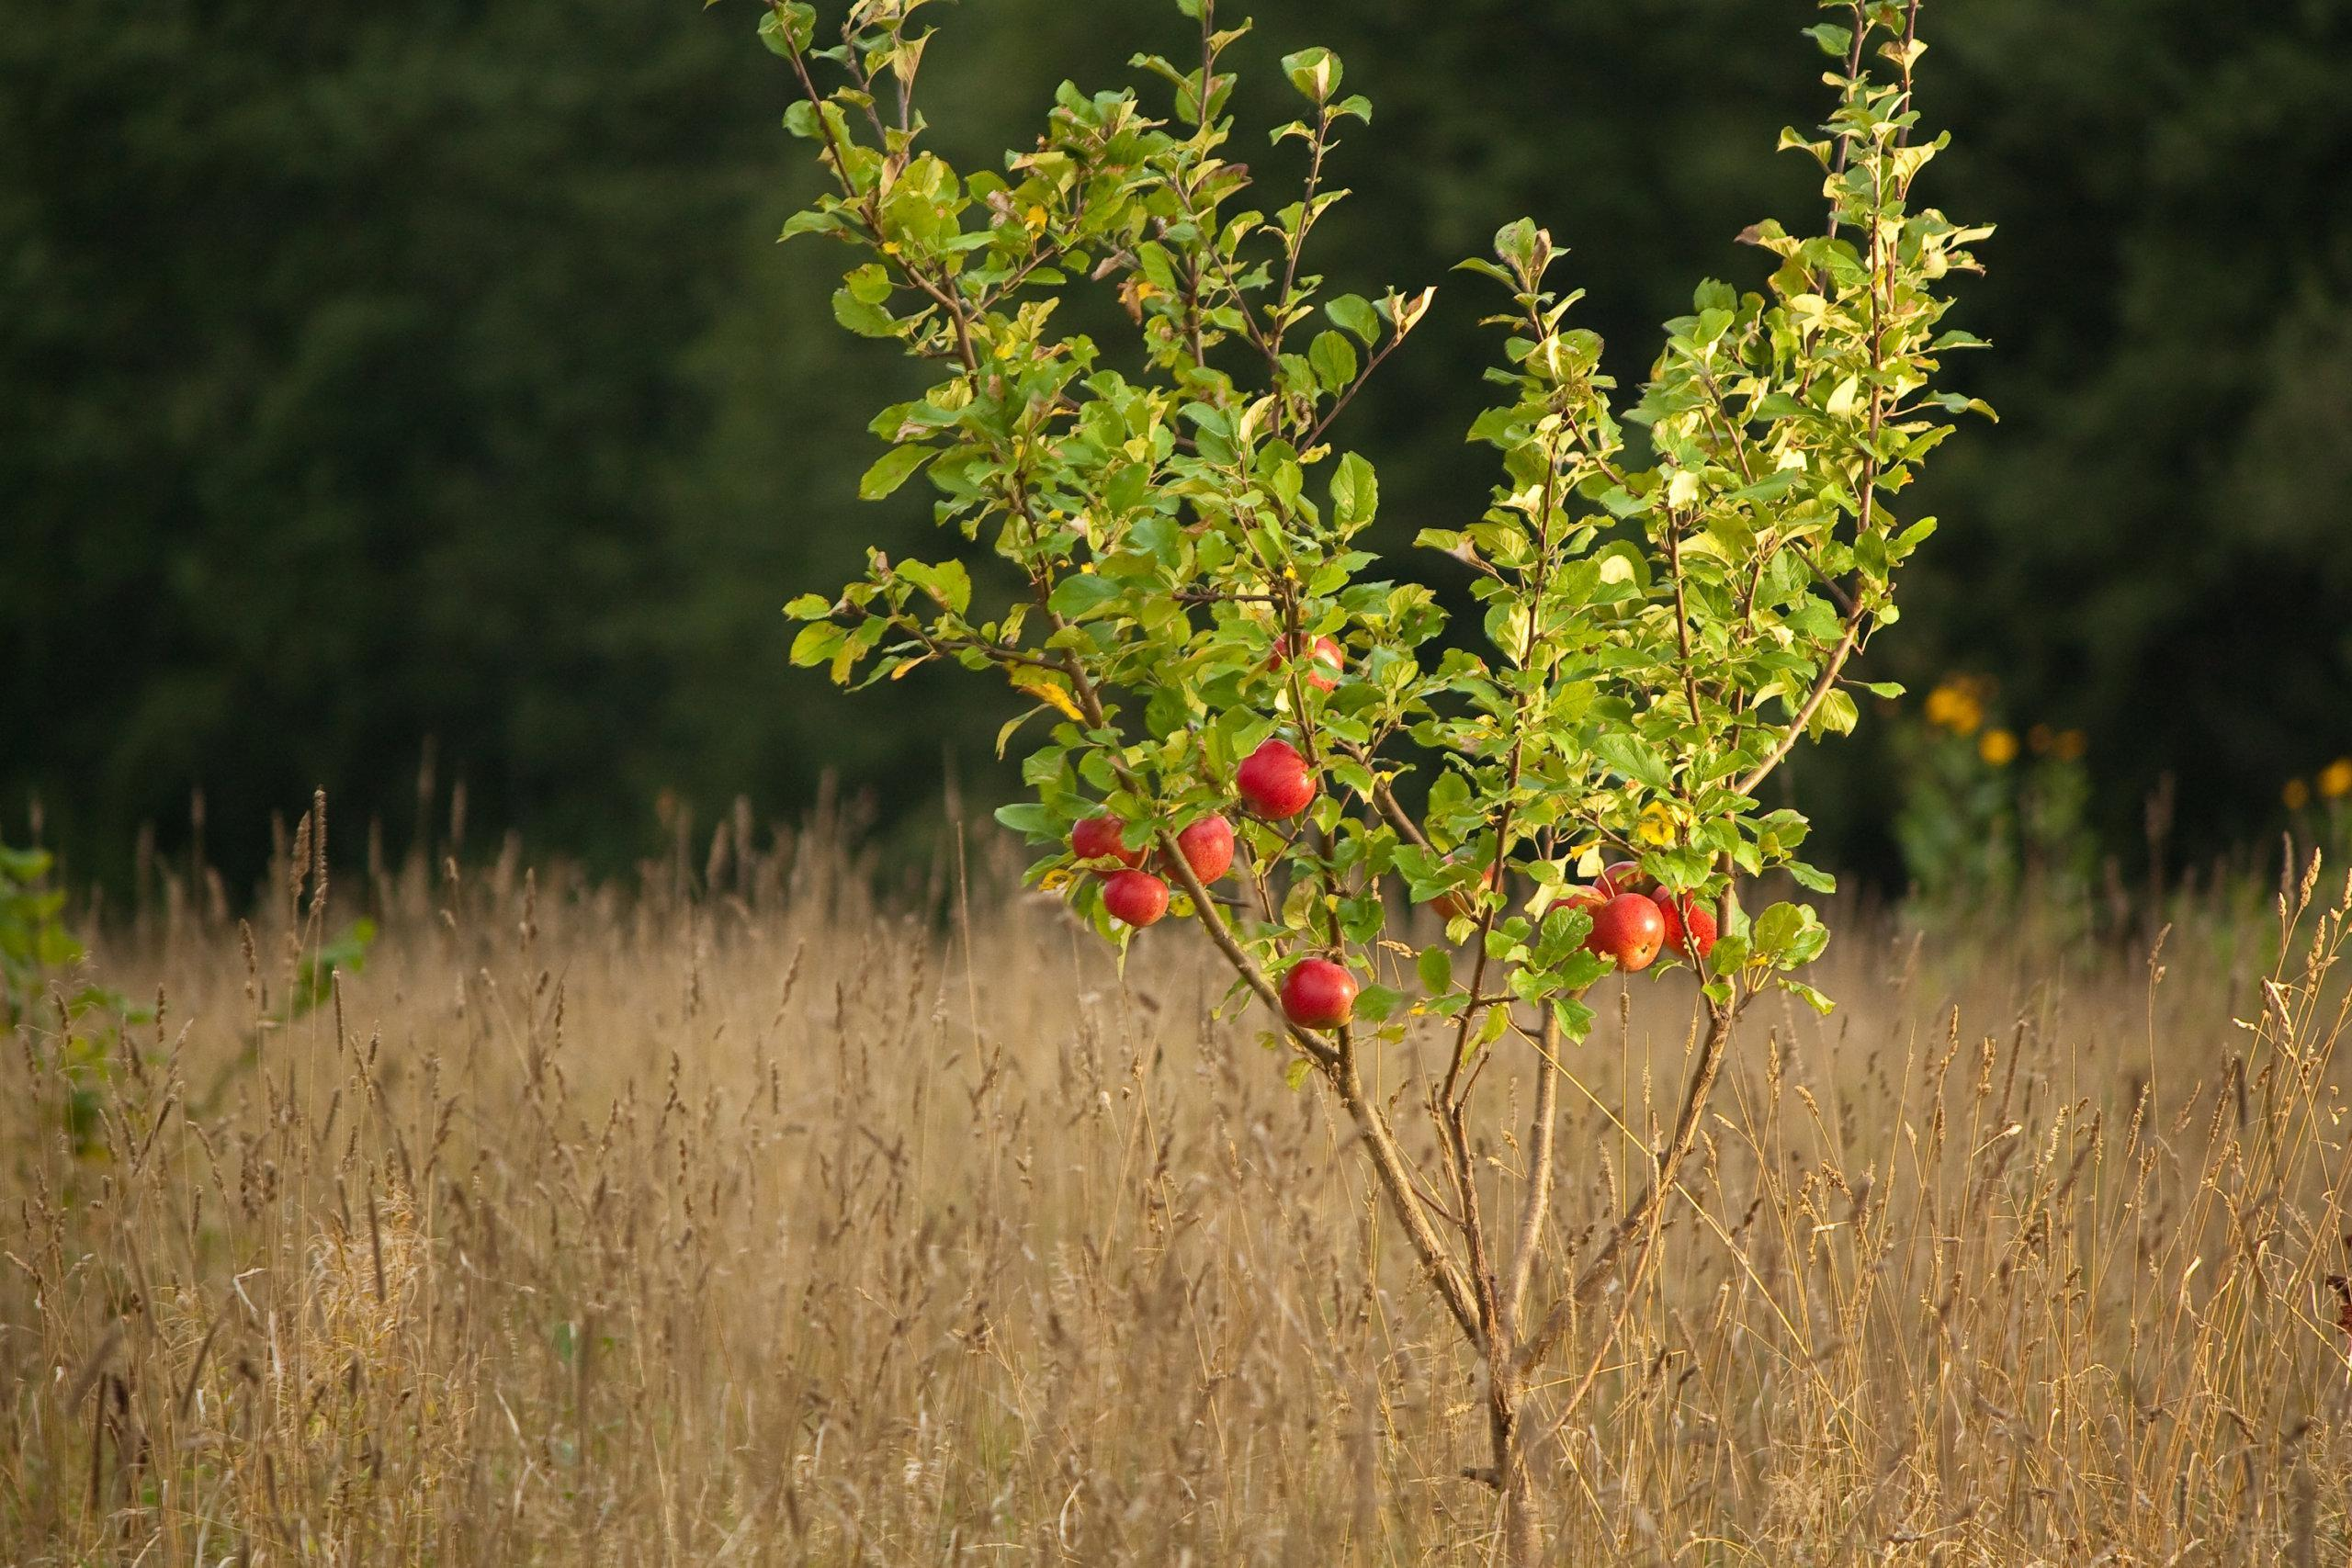apple: (1234, 740, 1319, 824), (1281, 954, 1356, 1029), (1648, 878, 1722, 955), (1594, 892, 1664, 971), (1272, 626, 1349, 696), (1069, 812, 1148, 875), (1174, 812, 1235, 884), (1102, 870, 1171, 927)
